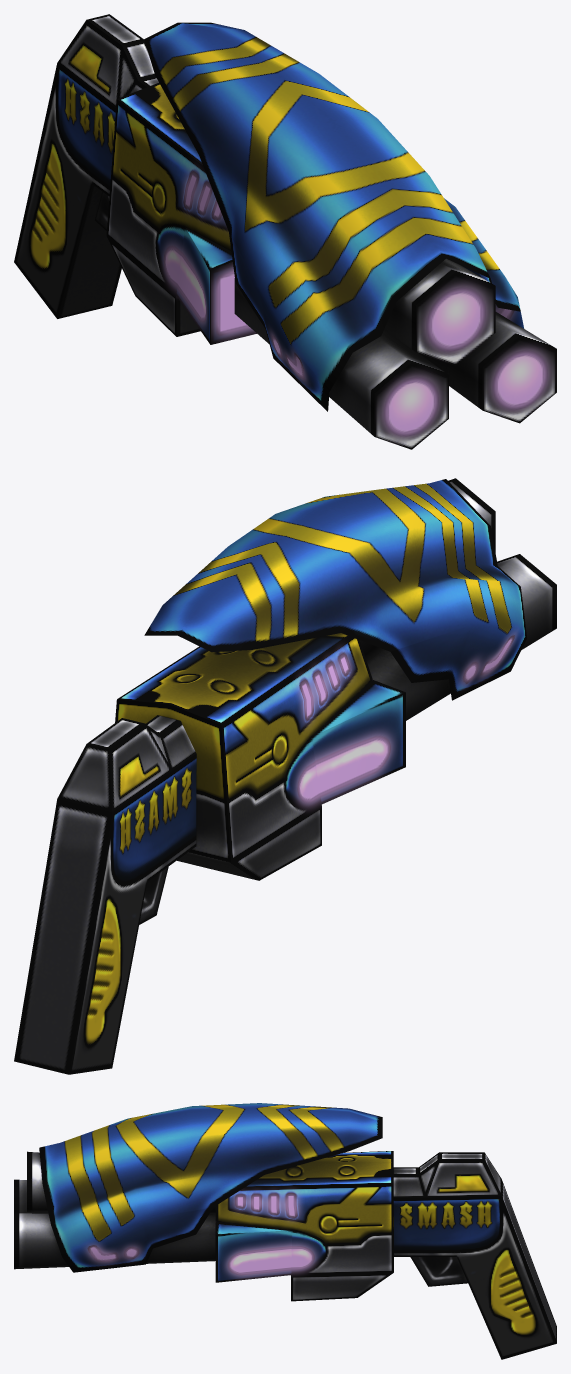
Rendered from weapon_shotguns_08.FBX.
The picture shows the model from 3 angles, top to bottom: view 1: azimuth 30°, elevation 25°; view 2: azimuth 150°, elevation 25°; view 3: azimuth 270°, elevation 25°; orthographic projection. The views are drawn at different scales.
Parts seen in each view (by area): view 1: weapon_shotguns_08; view 2: weapon_shotguns_08; view 3: weapon_shotguns_08.
Boxes of the visible parts, x1,y1,x2,y2 form: weapon_shotguns_08: [14, 14, 556, 449]; weapon_shotguns_08: [14, 478, 556, 1074]; weapon_shotguns_08: [14, 1103, 556, 1359].
Size of the model in its own units: 59.78 by 98.22 by 199.
